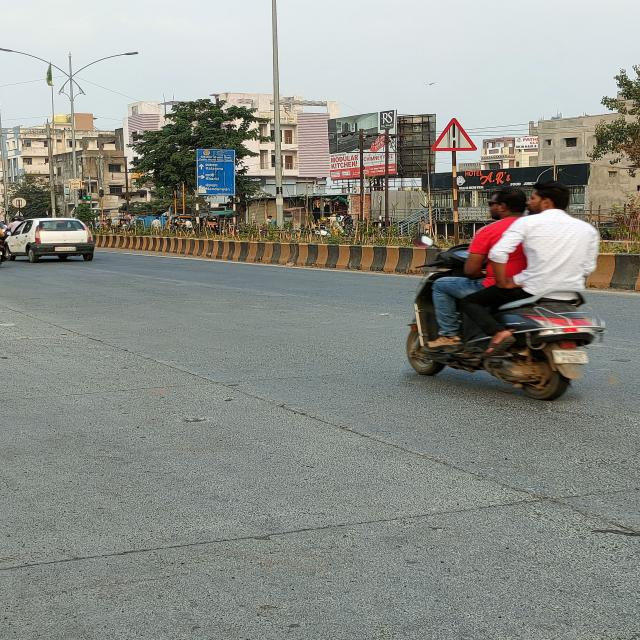GAP_IN_MEDIAN: (429, 115, 476, 150)
